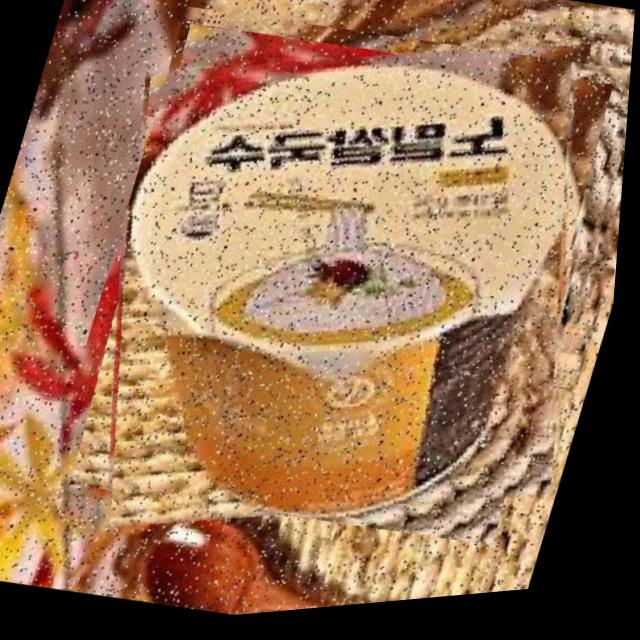Miscellaneous: (42, 0, 638, 608)
